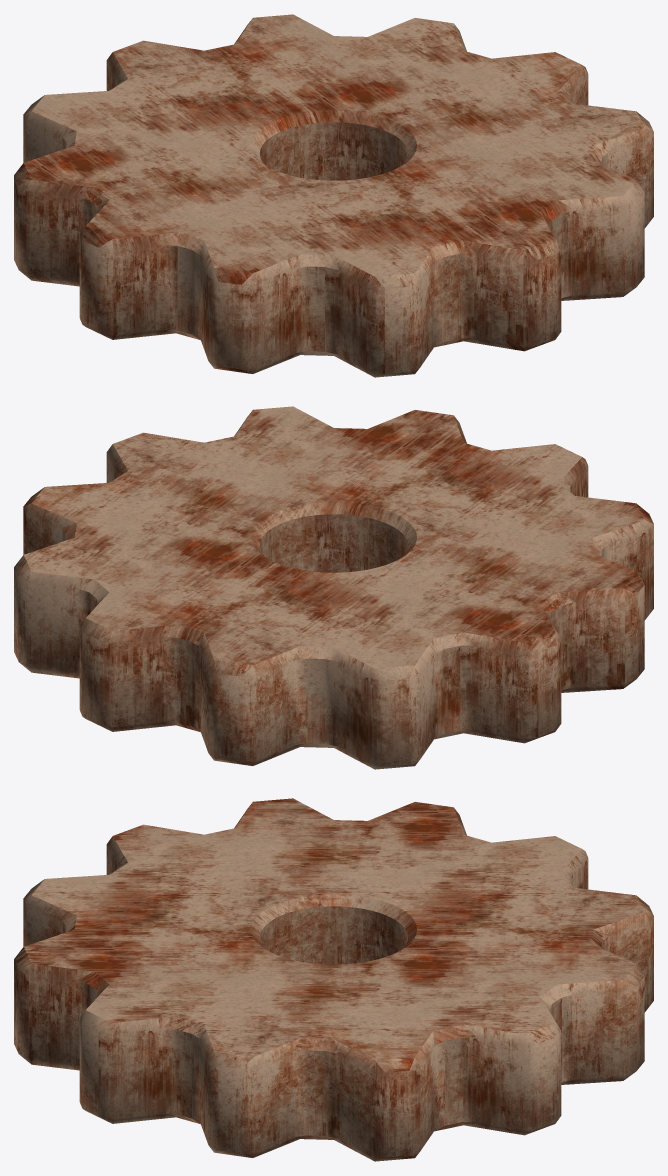
Rendered from gear_3.glb.
The picture shows the model from 3 angles, top to bottom: view 1: azimuth 30°, elevation 25°; view 2: azimuth 150°, elevation 25°; view 3: azimuth 270°, elevation 25°; orthographic projection.
Parts seen in each view (by area): view 1: gear_3; view 2: gear_3; view 3: gear_3.
Boxes of the visible parts, bbox=[...] form: gear_3: bbox=[14, 14, 653, 377]; gear_3: bbox=[14, 406, 653, 769]; gear_3: bbox=[14, 798, 653, 1161].
Size of the model in its own units: 0.069 by 0.012 by 0.069.
1 material, 1 textured.
